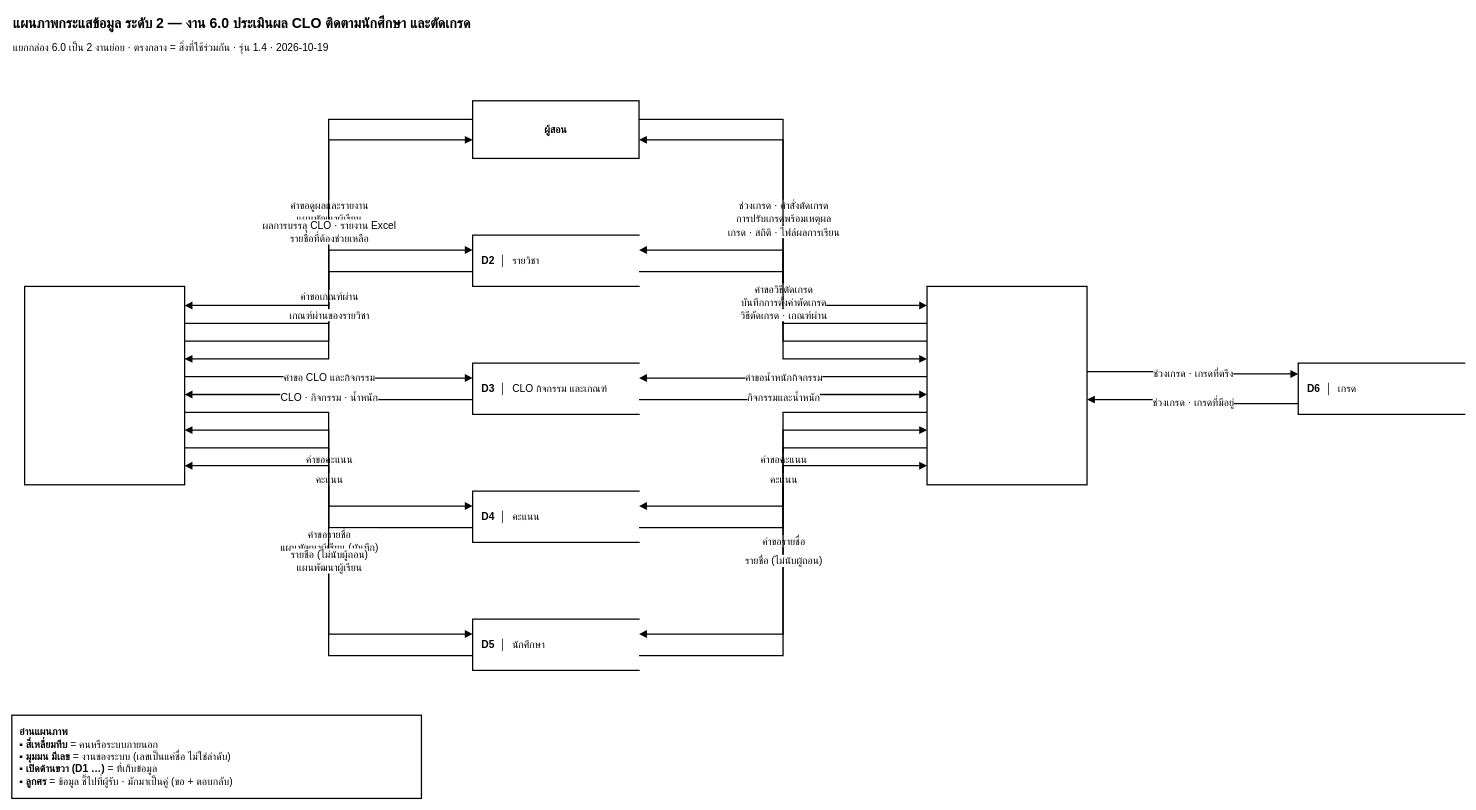
The diagram is 1476 pixels wide and 810 high, and some of its shapes have lost their labels. The shapes that lost their labels are listed below. From the top down, each one's box as (x1, y1, x2, y2) in pixels, then its label:
(24, 285, 185, 485): 6.1 ประเมินผล CLO และติดตามนักศึกษา
(926, 285, 1087, 485): 6.2 ตัดเกรด
